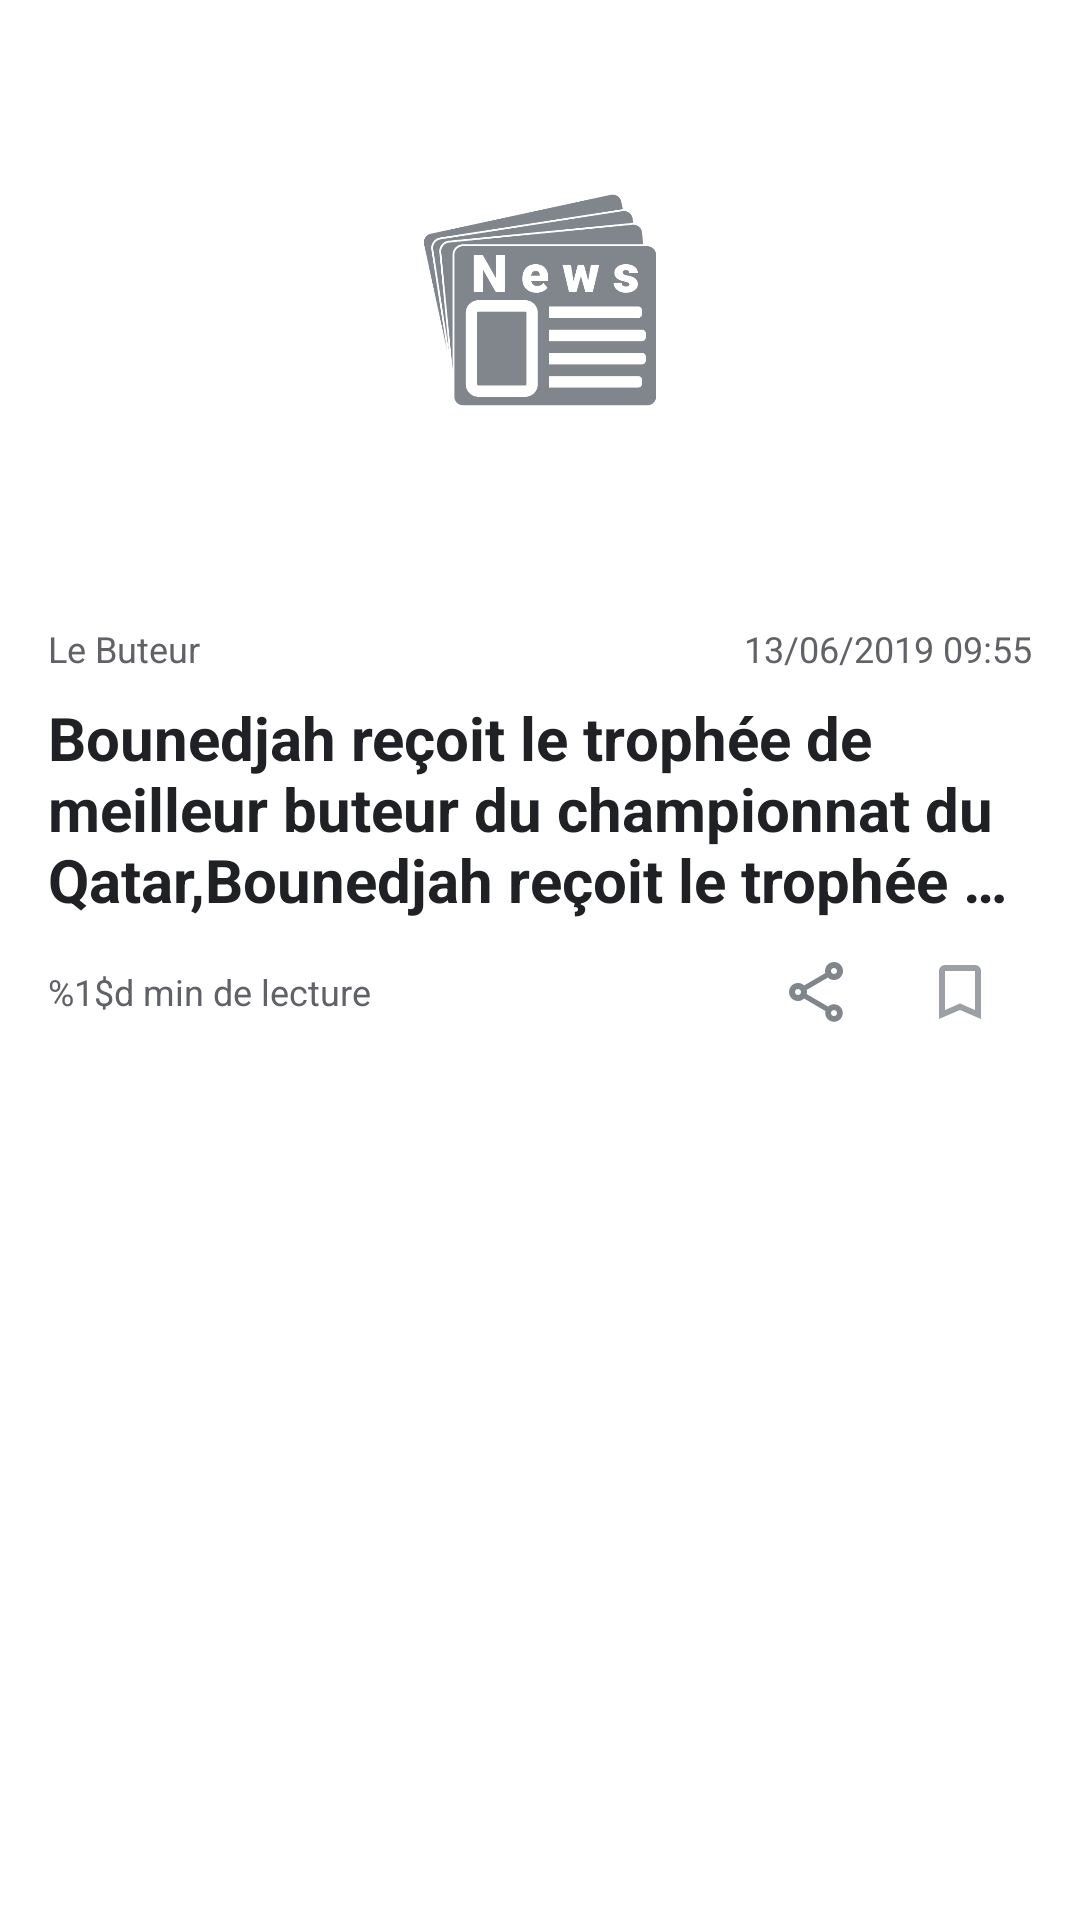

Point at icon controls on the screen. Image size 1080 × 1920, points as (x,y).
bookmark border: (960,992)
share: (816,992)
